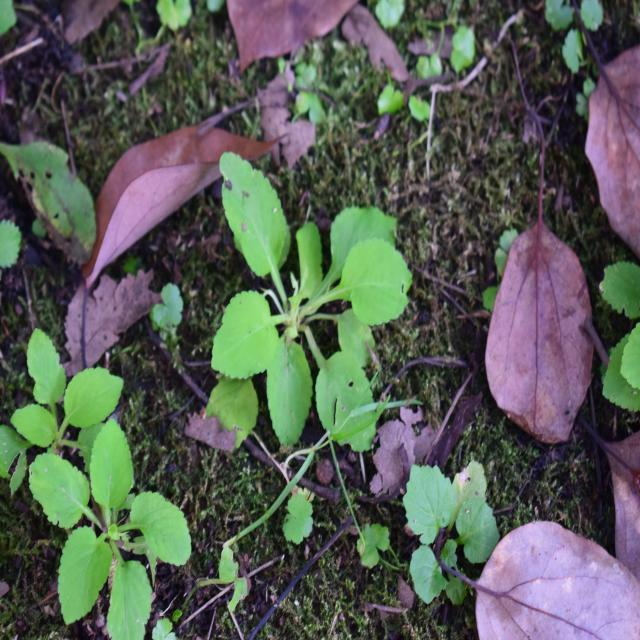Viola: (209, 151, 425, 461), (39, 427, 198, 627)
